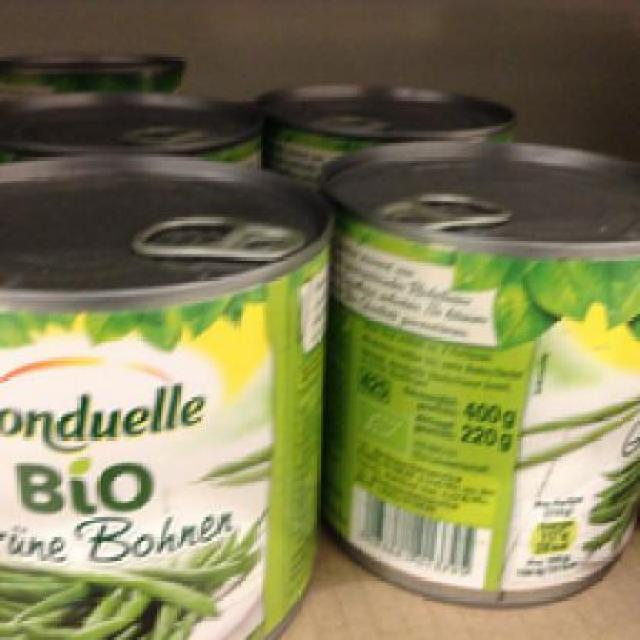Beans: (0, 137, 323, 637), (326, 136, 628, 610)
